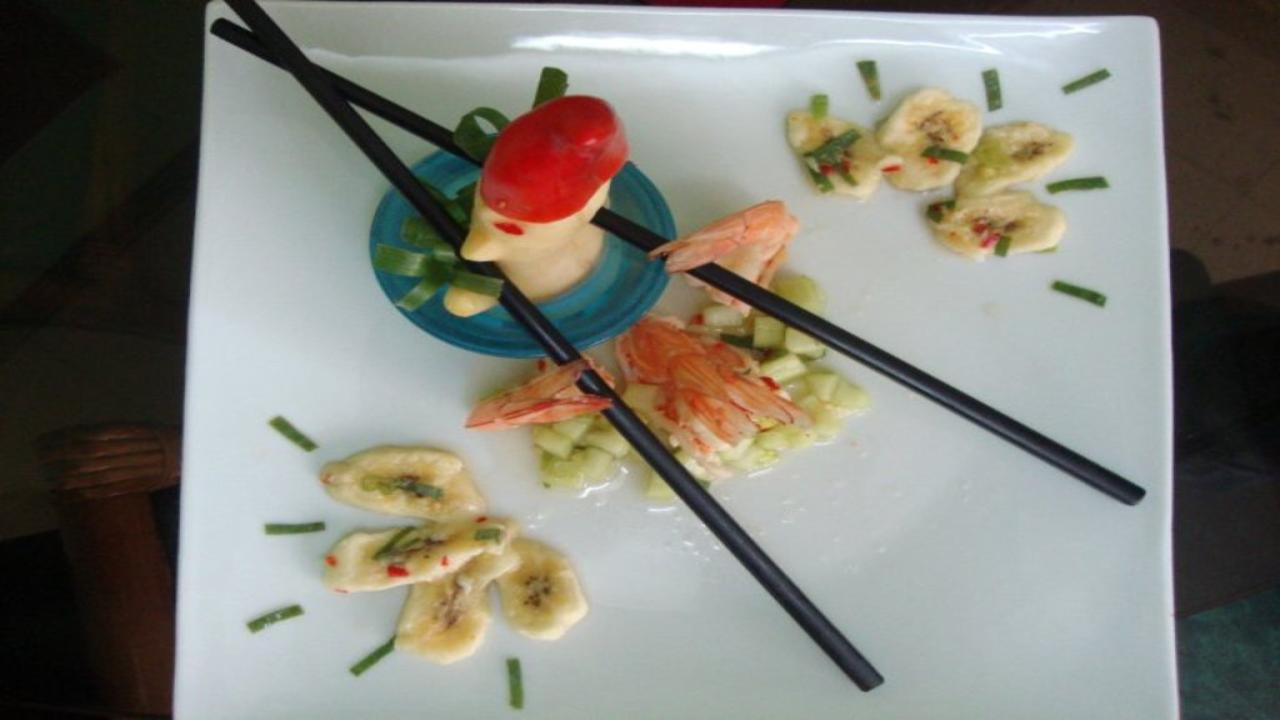chopstick: (225, 0, 883, 697), (217, 21, 1142, 500)
